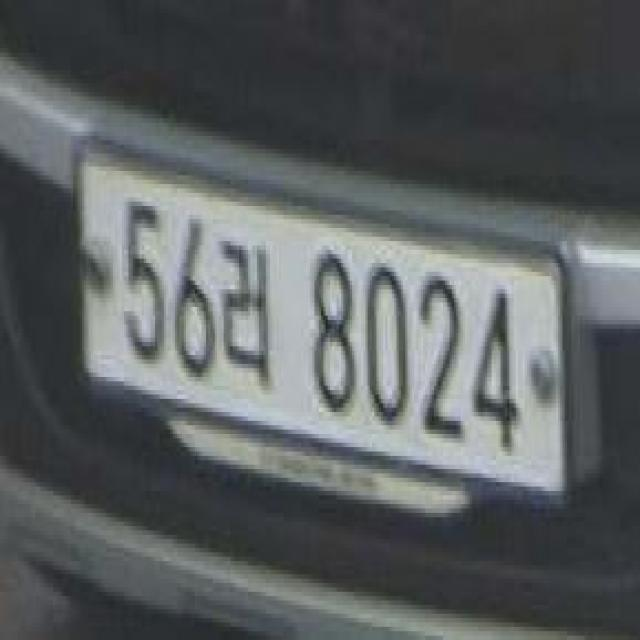illegal_plate: (79, 144, 570, 538)
